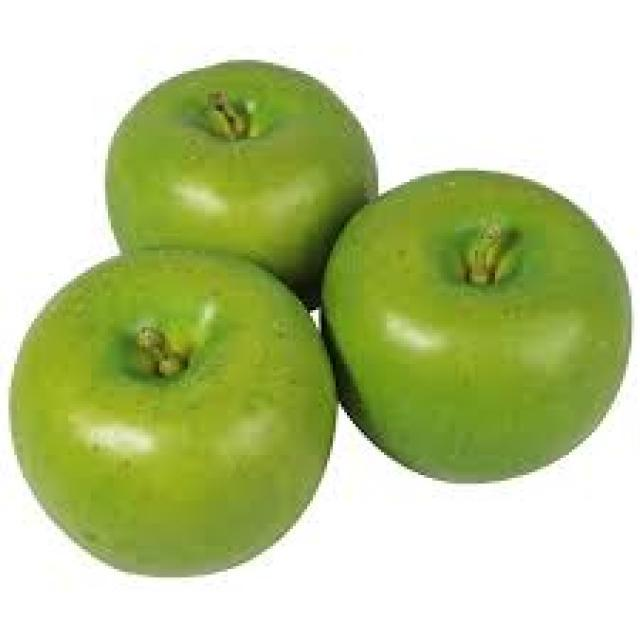apple: (10, 251, 336, 575), (322, 170, 630, 481), (106, 60, 377, 288)
